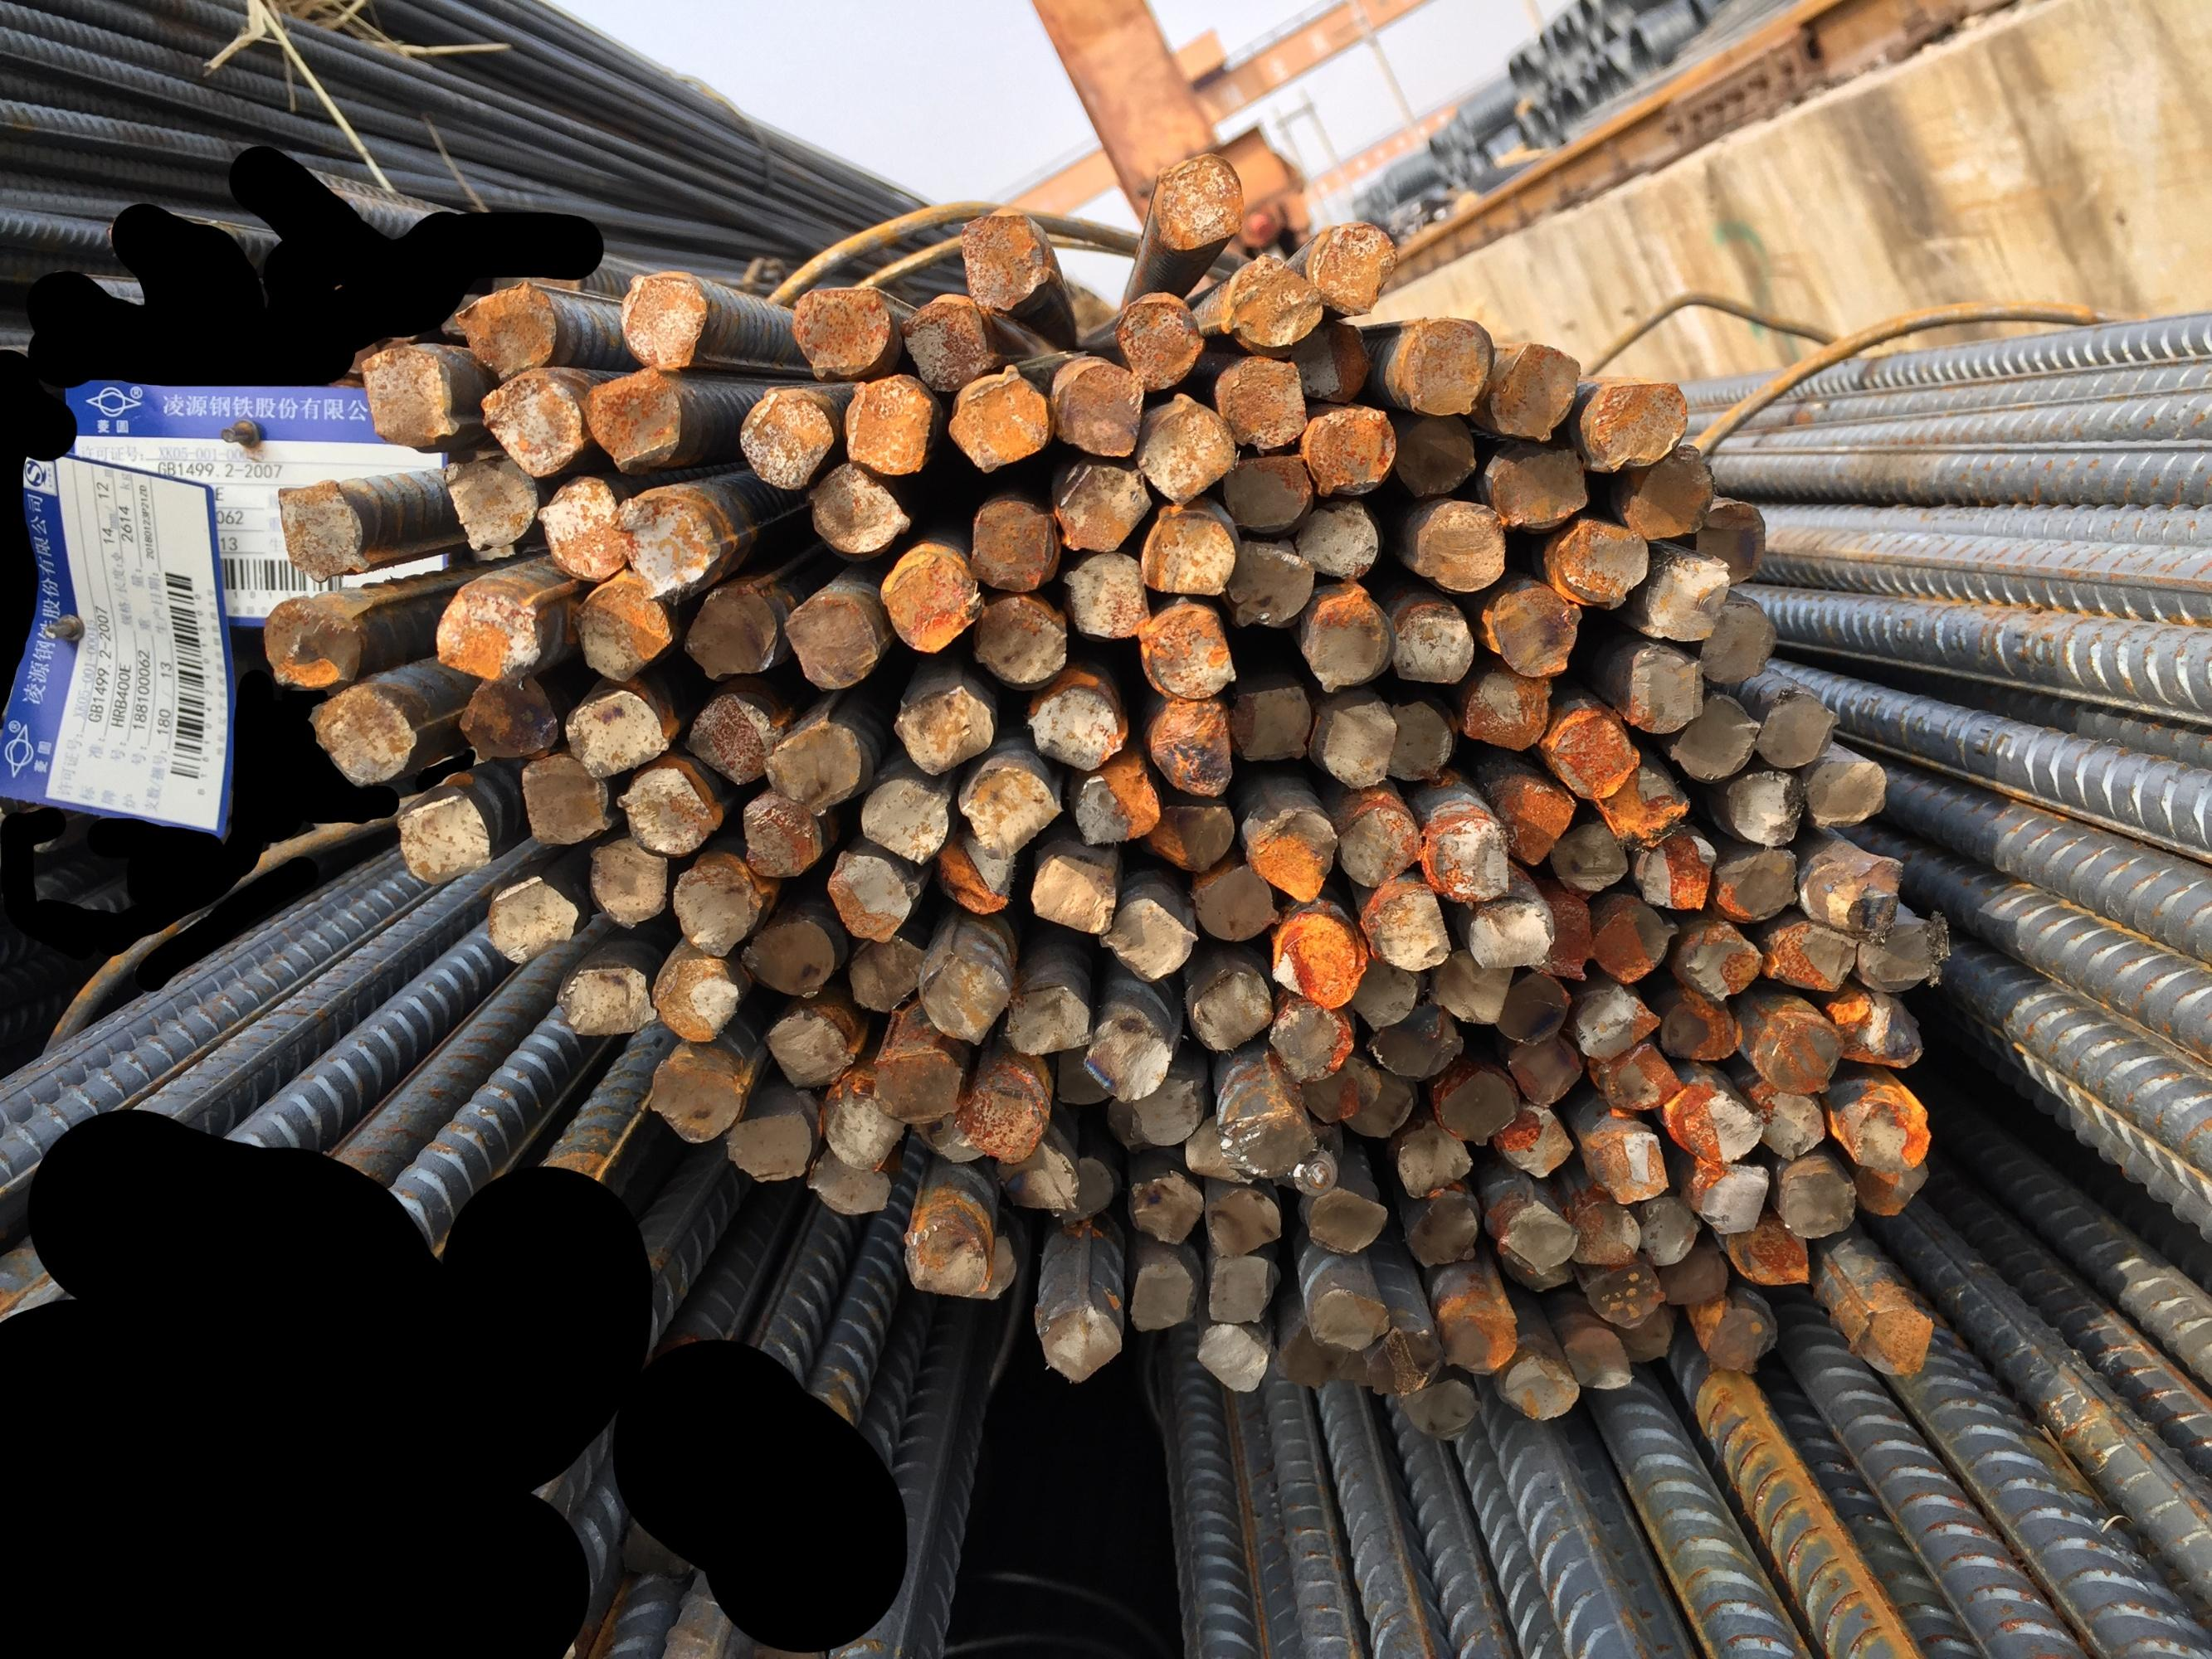bar: (605, 484, 716, 606), (938, 359, 1056, 472), (572, 361, 685, 472), (303, 681, 418, 791), (1290, 580, 1394, 699), (525, 465, 631, 580), (1583, 369, 1698, 476), (725, 383, 835, 493), (427, 584, 553, 680), (472, 369, 587, 474), (345, 347, 458, 451), (563, 572, 671, 680), (758, 709, 868, 812), (882, 549, 987, 655), (1220, 246, 1323, 354), (251, 592, 363, 692), (607, 765, 722, 861), (1388, 314, 1490, 420), (784, 281, 894, 380), (1138, 390, 1236, 502), (838, 369, 934, 483), (638, 1054, 753, 1148), (776, 594, 879, 699), (1093, 890, 1201, 990), (1149, 146, 1245, 258), (450, 671, 563, 765), (802, 460, 915, 554), (676, 687, 779, 789), (607, 268, 706, 375), (955, 760, 1062, 859), (948, 207, 1048, 314), (434, 455, 542, 552), (891, 298, 999, 396), (561, 683, 671, 779), (1217, 347, 1311, 458), (1135, 498, 1238, 599), (1137, 601, 1239, 702), (1483, 336, 1584, 439), (451, 281, 556, 380), (1614, 444, 1719, 544), (1267, 906, 1365, 1012), (675, 586, 783, 681), (889, 681, 995, 777), (1297, 403, 1401, 498), (1143, 692, 1238, 798), (270, 479, 368, 580), (1109, 293, 1210, 390), (1546, 514, 1647, 612), (971, 586, 1067, 688), (1663, 690, 1766, 786), (1245, 805, 1339, 910), (1400, 500, 1506, 592), (1049, 359, 1147, 458), (1302, 214, 1400, 314), (580, 831, 675, 934), (1025, 840, 1117, 945), (1635, 551, 1736, 645), (1487, 444, 1595, 532), (913, 950, 1009, 1047), (823, 847, 917, 946), (1213, 1093, 1311, 1187), (1565, 976, 1663, 1070), (1055, 464, 1156, 554), (1229, 528, 1314, 634), (1218, 446, 1318, 537), (1021, 685, 1123, 774), (392, 796, 495, 884), (1752, 683, 1846, 777), (514, 758, 610, 850), (650, 953, 743, 1049), (1074, 755, 1166, 850), (1487, 589, 1584, 680), (479, 880, 580, 967), (859, 765, 945, 868), (1496, 772, 1581, 875), (1820, 849, 1914, 941), (668, 864, 758, 960), (1058, 551, 1154, 641), (1659, 1084, 1768, 1164), (1591, 760, 1694, 843), (737, 917, 842, 999), (960, 500, 1053, 592), (1462, 666, 1551, 762), (1388, 404, 1485, 491), (1313, 692, 1398, 791), (994, 976, 1095, 1060), (1224, 676, 1313, 770), (1856, 913, 1952, 1000), (1708, 845, 1808, 929), (1333, 796, 1422, 889), (1185, 960, 1272, 1054), (1367, 882, 1454, 976), (1687, 596, 1781, 683), (1628, 831, 1724, 917), (1614, 650, 1713, 732), (899, 1213, 990, 1302), (1082, 1014, 1173, 1103), (1551, 709, 1642, 798), (1189, 859, 1281, 946), (1586, 896, 1673, 988), (758, 1006, 852, 1091), (1288, 315, 1374, 410), (1295, 1180, 1393, 1262), (1693, 491, 1773, 591), (1035, 1300, 1126, 1387), (1673, 917, 1764, 1004), (553, 960, 655, 1037), (1286, 500, 1382, 582), (1143, 791, 1241, 871), (1748, 1011, 1846, 1091), (1368, 1002, 1469, 1079), (1827, 995, 1928, 1072), (1424, 817, 1513, 904), (1464, 890, 1557, 974), (737, 791, 819, 885), (1797, 749, 1895, 828), (1686, 1150, 1773, 1237), (1848, 1093, 1935, 1180), (1433, 1295, 1523, 1378), (1579, 1121, 1670, 1204), (870, 1044, 962, 1126), (1389, 599, 1469, 694), (1393, 1114, 1480, 1199), (1269, 1002, 1354, 1089), (936, 829, 1020, 918), (1762, 917, 1855, 997), (819, 1082, 903, 1169), (1846, 1297, 1933, 1380), (835, 932, 924, 1014), (1656, 986, 1747, 1066), (1428, 939, 1511, 1025), (1773, 1161, 1856, 1244), (1720, 762, 1804, 845), (1117, 1169, 1208, 1246), (962, 1080, 1042, 1166), (722, 1110, 816, 1182), (1367, 1324, 1449, 1406), (1548, 817, 1630, 899), (1292, 1054, 1384, 1126), (1525, 890, 1597, 983), (1400, 1187, 1480, 1269), (1335, 946, 1415, 1028), (1504, 1030, 1586, 1110), (807, 1143, 892, 1220), (1121, 1251, 1196, 1338), (1492, 967, 1572, 1047), (1191, 1316, 1272, 1394), (1431, 1065, 1517, 1140), (990, 1140, 1077, 1213), (1379, 697, 1452, 784), (1503, 1347, 1581, 1427), (1734, 1213, 1815, 1291), (1750, 1087, 1830, 1166), (1558, 1317, 1633, 1401), (1567, 1188, 1640, 1274), (1198, 1185, 1285, 1256), (1182, 1107, 1250, 1197), (1302, 1286, 1393, 1354), (1497, 1194, 1578, 1270), (1581, 1260, 1673, 1326), (1121, 1075, 1204, 1147), (1593, 1047, 1682, 1114), (1494, 1107, 1572, 1180), (1632, 1183, 1701, 1265), (1848, 1152, 1931, 1220), (1659, 1236, 1733, 1310), (1279, 1122, 1349, 1199), (1401, 1377, 1482, 1443), (1701, 1305, 1774, 1377), (1607, 1297, 1679, 1368), (1206, 1253, 1276, 1326), (1347, 1072, 1417, 1145), (1276, 1323, 1346, 1392), (915, 1103, 983, 1166), (1494, 1253, 1590, 1297), (1049, 1040, 1110, 1107), (1062, 1148, 1116, 1222), (971, 1229, 1020, 1305), (1347, 1328, 1394, 1406), (1102, 1091, 1156, 1157)
